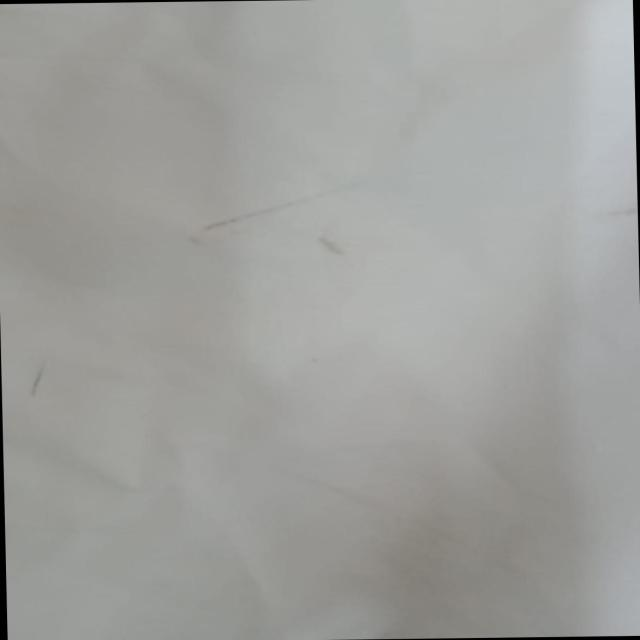stain: (180, 181, 362, 268), (19, 355, 55, 401)
